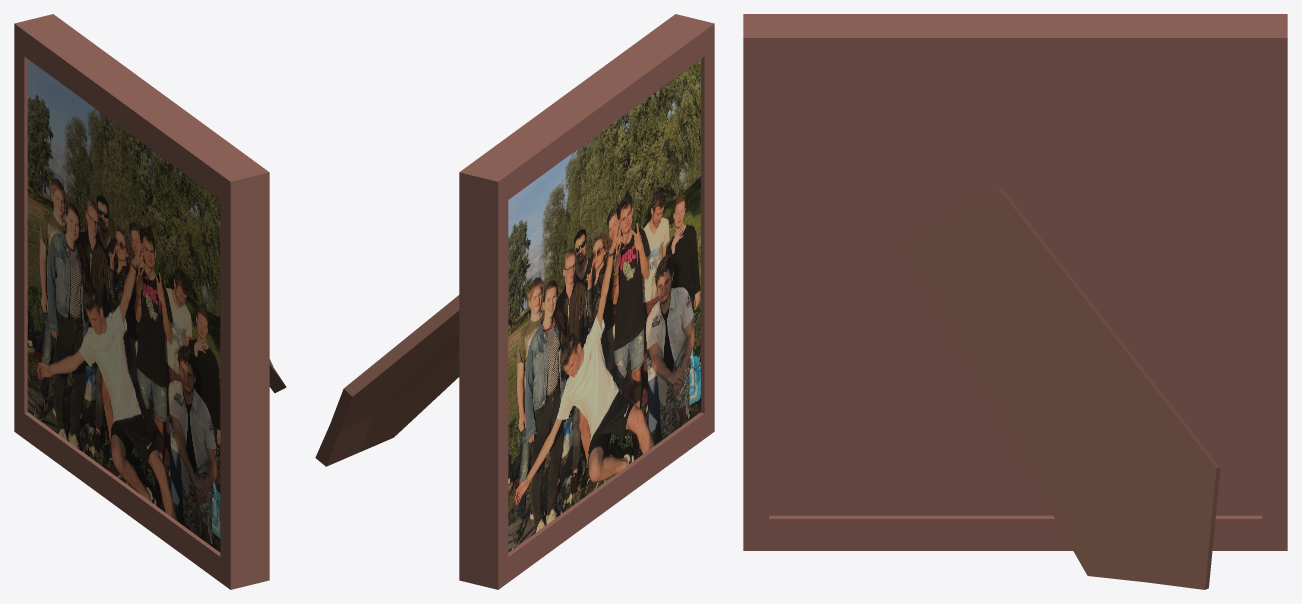
File: Fotolijstje_PostieveInteractable.fbx
3 renders of one model, left to right at view 1: azimuth 30°, elevation 25°; view 2: azimuth 150°, elevation 25°; view 3: azimuth 270°, elevation 25°, orthographic. The views are drawn at different scales.
Visible parts, largest first — view 1: Standaard; view 2: Standaard; view 3: Standaard.
Boxes of the visible parts, x1,y1,x2,y2 form: Standaard: [14, 14, 286, 589]; Standaard: [315, 14, 714, 589]; Standaard: [743, 14, 1287, 589].
Size of the model in its own units: 8.23 by 14.86 by 14.28.
